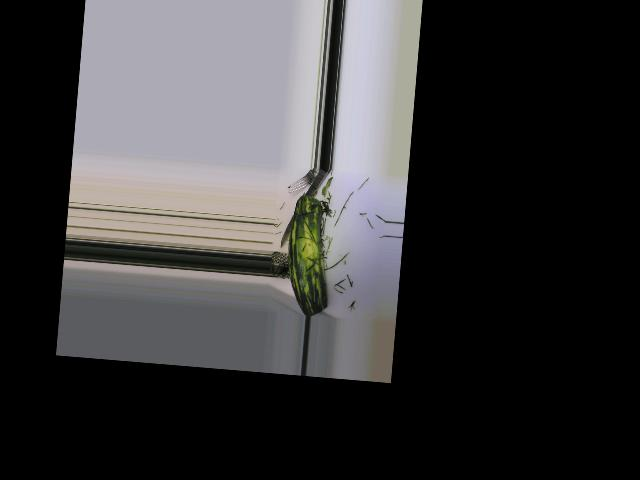cucumber: (283, 193, 336, 317)
